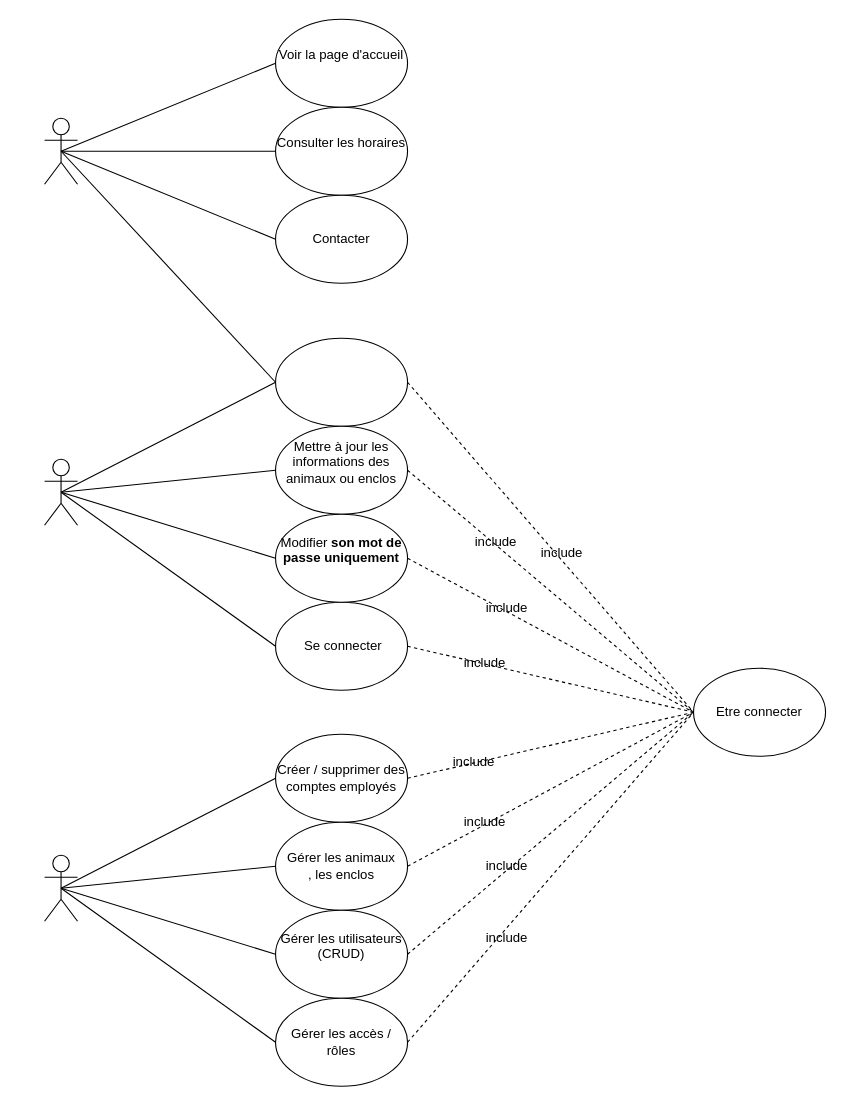
The diagram is 845 pixels wide and 1106 high, and some of its shapes have lost their labels. Here are the shapes that lost their labels. From the top down, the centre of each, then its label:
(x=60, y=150): Visiteur
(x=341, y=381): Consulter les fiches animaux / enclos
(x=60, y=491): Employé
(x=60, y=887): Administrateur
